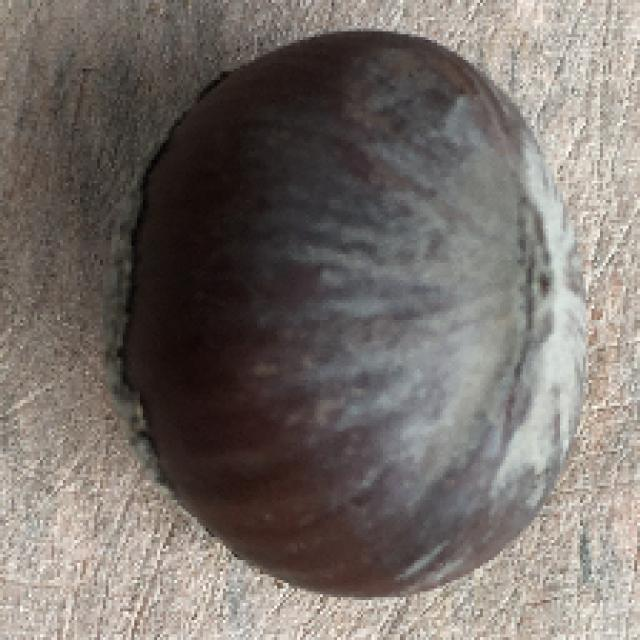damagedHazelnut: (101, 29, 593, 596)
